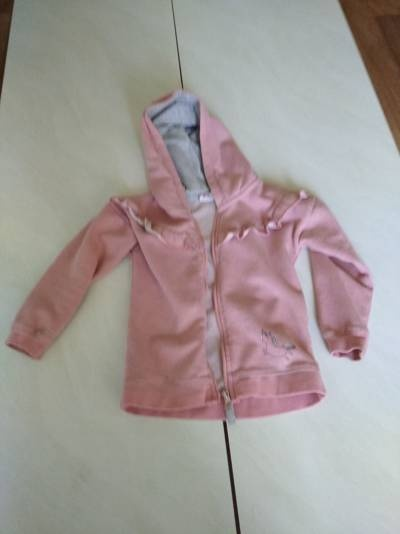Hoodie: (15, 65, 400, 420)
